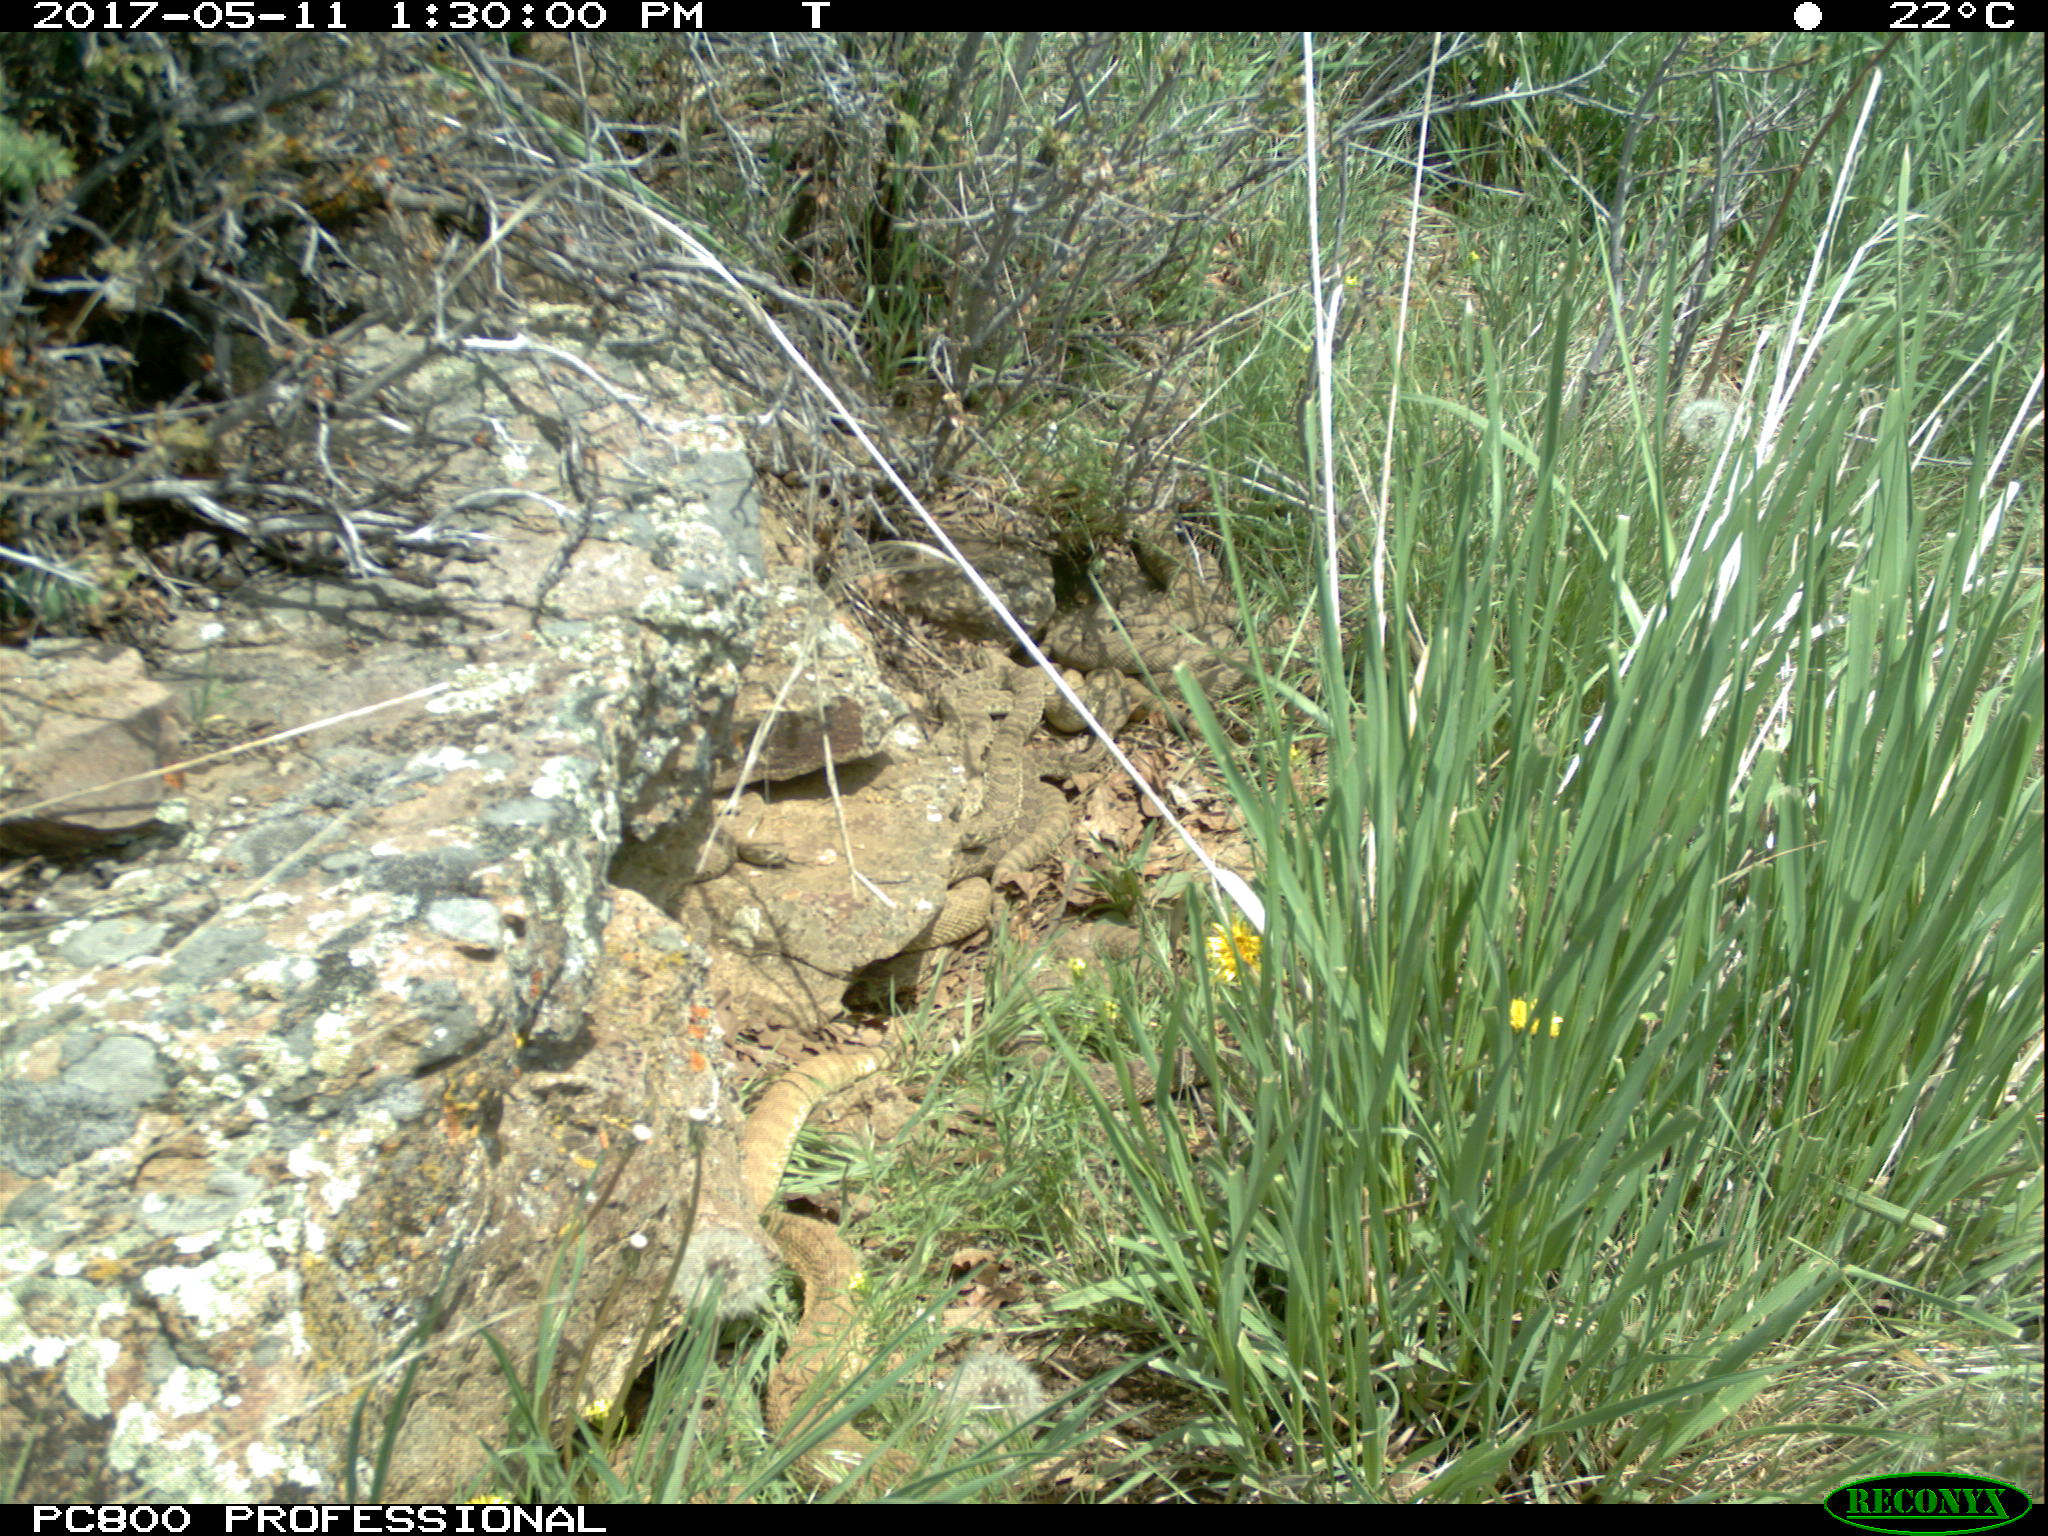snake: (761, 1212, 924, 1492), (1042, 615, 1297, 716), (734, 1042, 898, 1196), (959, 652, 1043, 845), (911, 871, 1009, 944)
